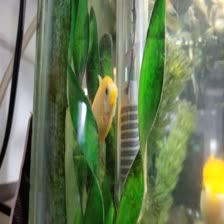Cuezo: (187, 149, 223, 214)
Plano: (86, 71, 117, 138)
